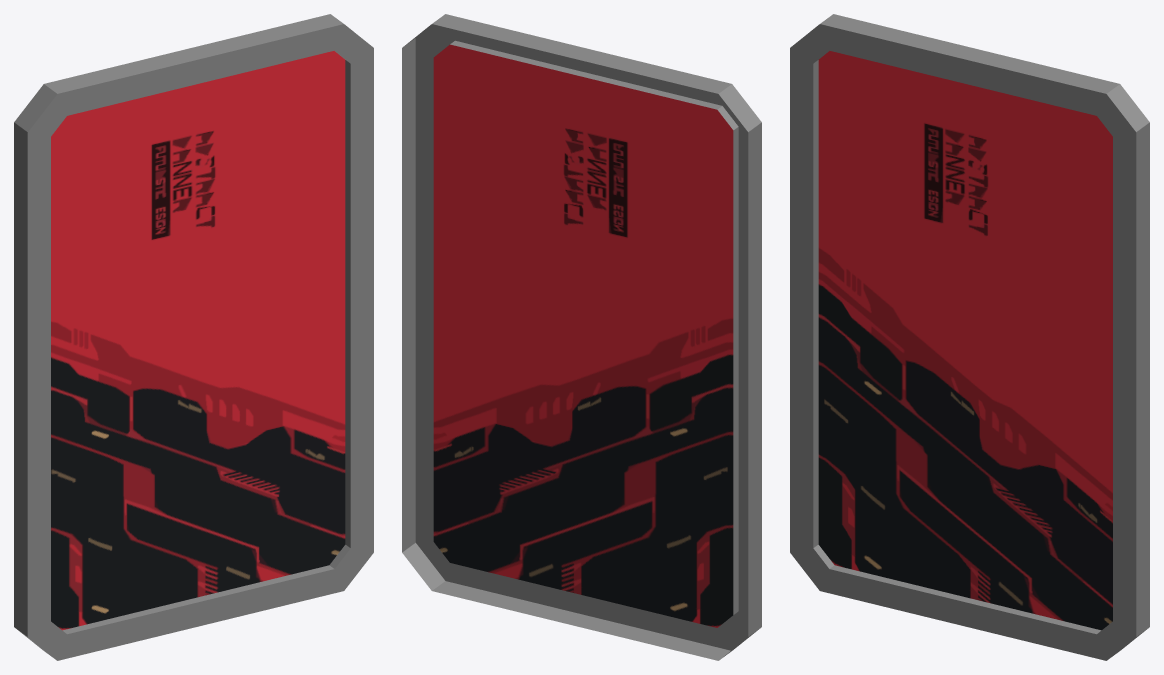
File: CbpBillboard A.fbx
3 renders of one model, left to right at view 1: azimuth 30°, elevation 25°; view 2: azimuth 150°, elevation 25°; view 3: azimuth 330°, elevation 25°, orthographic.
Visible parts, largest first — view 1: CbpBillboard A; view 2: CbpBillboard A; view 3: CbpBillboard A.
Boxes of the visible parts, x1=… form: CbpBillboard A: x1=14, y1=14, x2=373, y2=660; CbpBillboard A: x1=402, y1=14, x2=761, y2=660; CbpBillboard A: x1=790, y1=14, x2=1149, y2=660.
Bounding box in the file's own units: 8.01 × 12.54 × 0.548.
